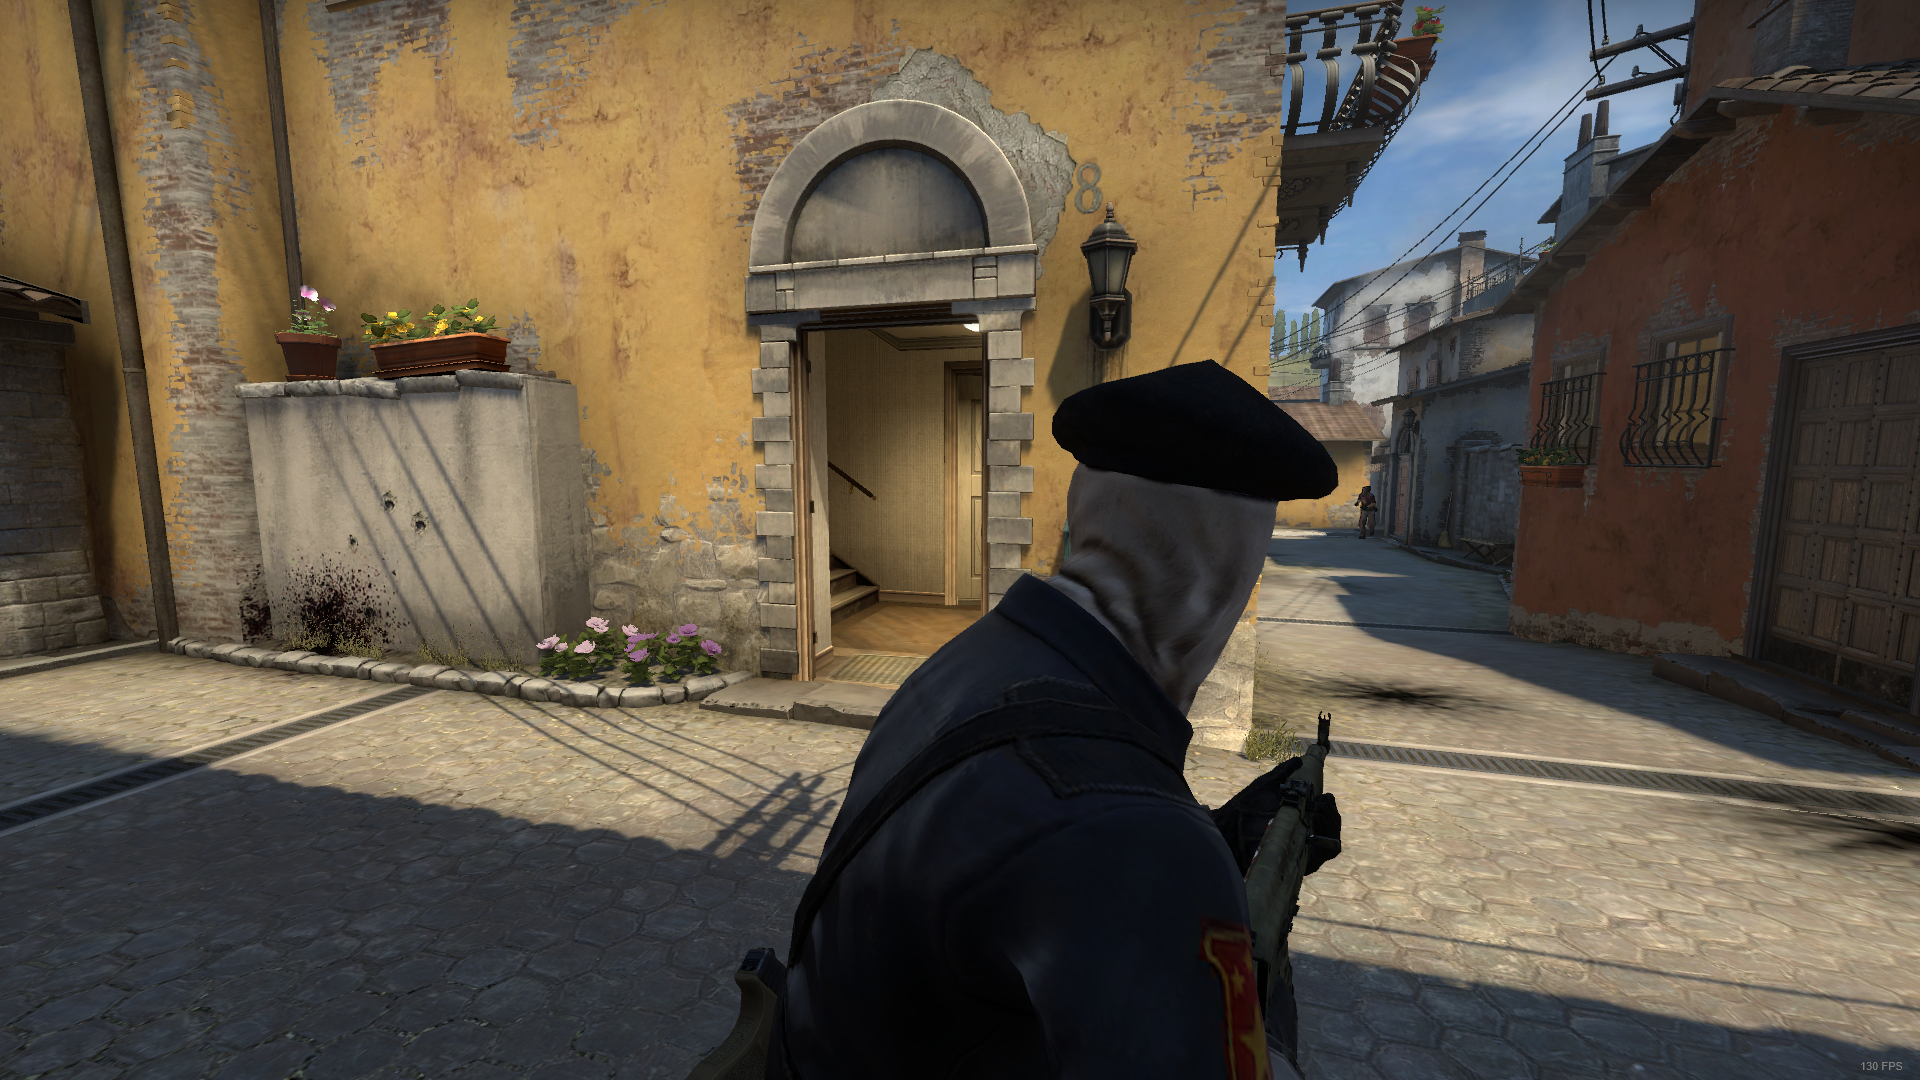t: (731, 357, 1367, 1069)
